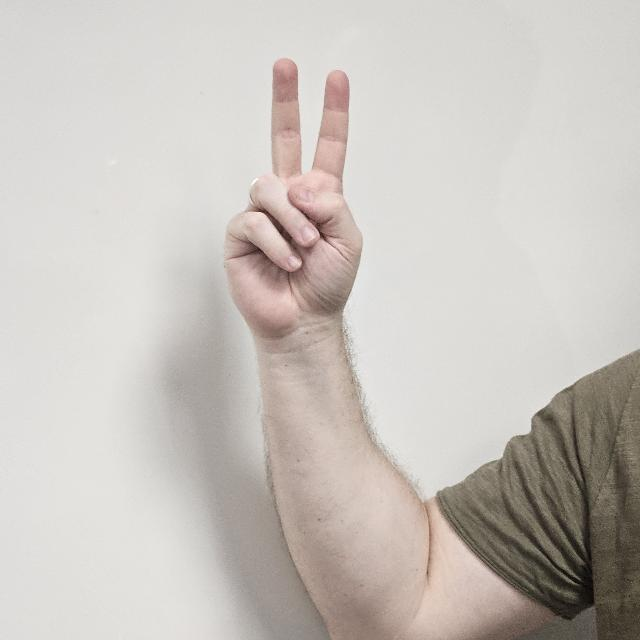Triangulo: (223, 54, 364, 396)
